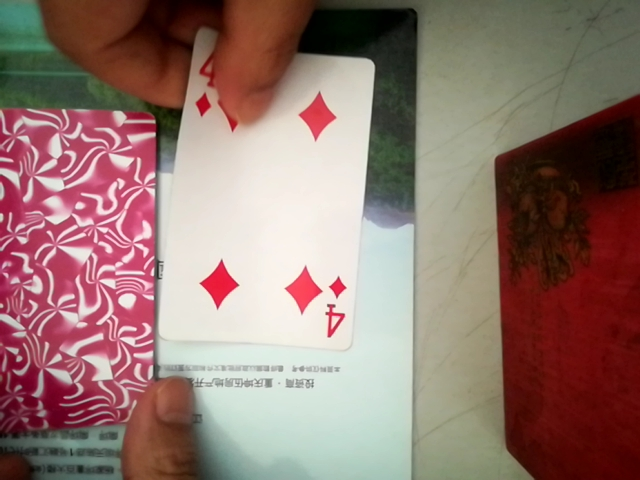fk 4: (159, 49, 382, 362)
